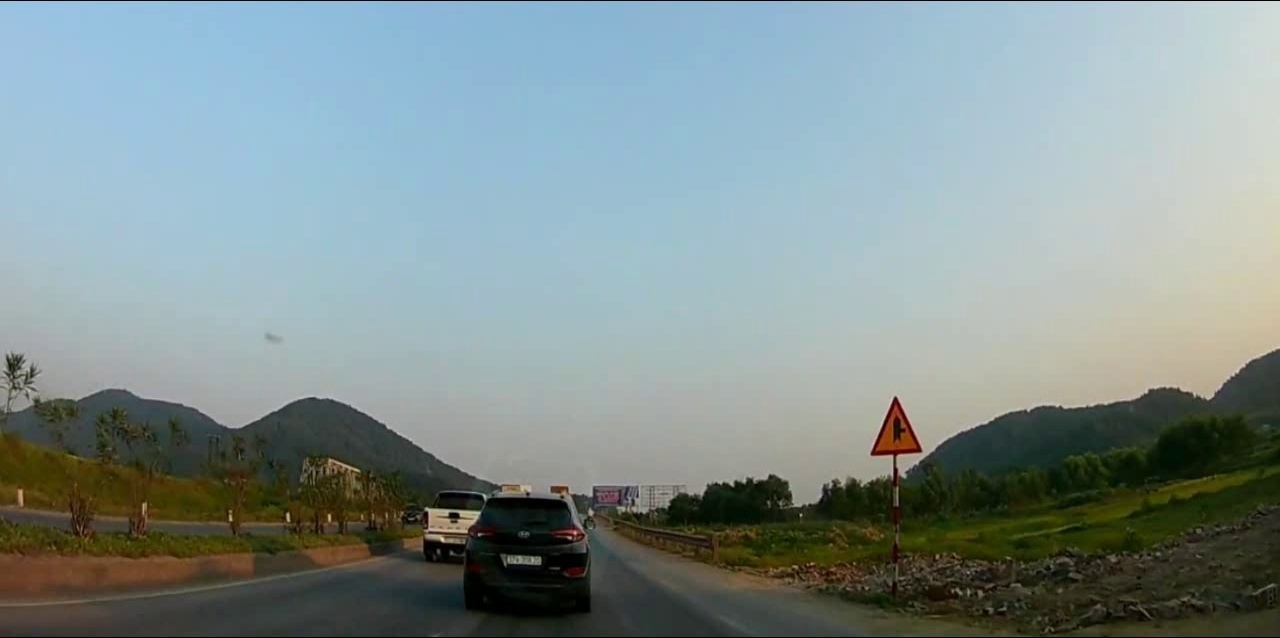Giao nhau voi duong khong uu tien: (869, 394, 924, 454)
